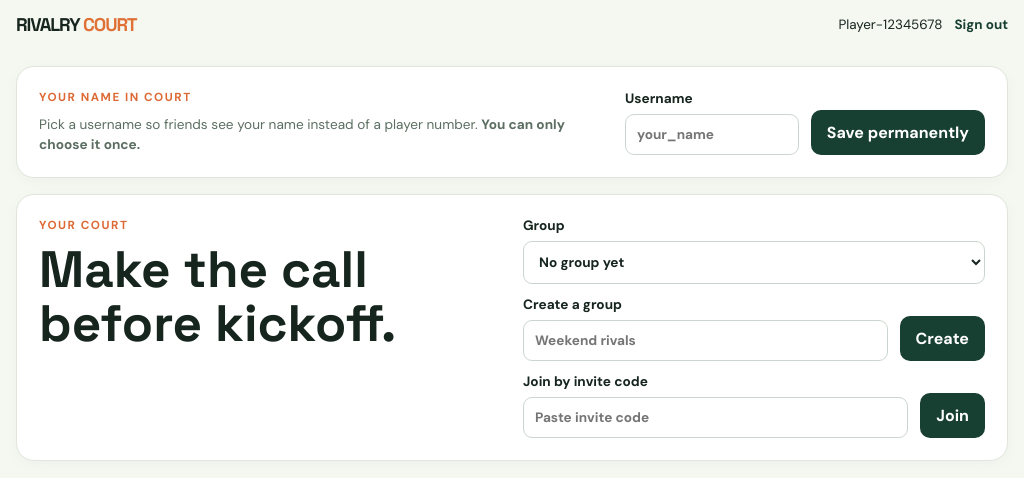
Test: a member can save a username for the duel display
The width and height of the screenshot is (1024, 478).
Expected: the text "Player-12345678" is shown, [838,16,942,33]
Type "Captain_E" into the field labelled "Username" at (712, 135), box [625,114,799,155]
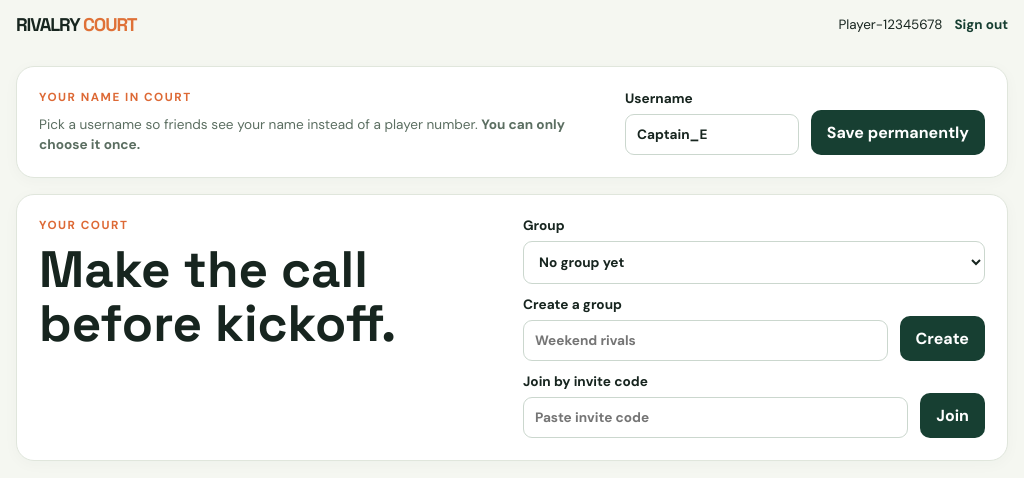
Click the button "Save permanently" at (898, 133), box [811,110,985,155]
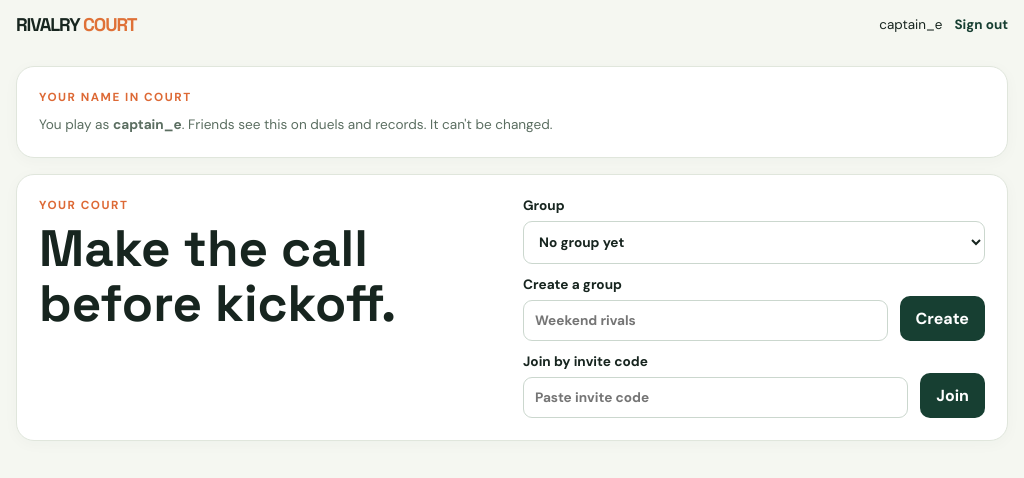
Expected: the text "It can't be changed" is shown, [182,116,552,132]
Expected: the field labelled "username" is gone
Expected: the button "Save permanently" is gone
